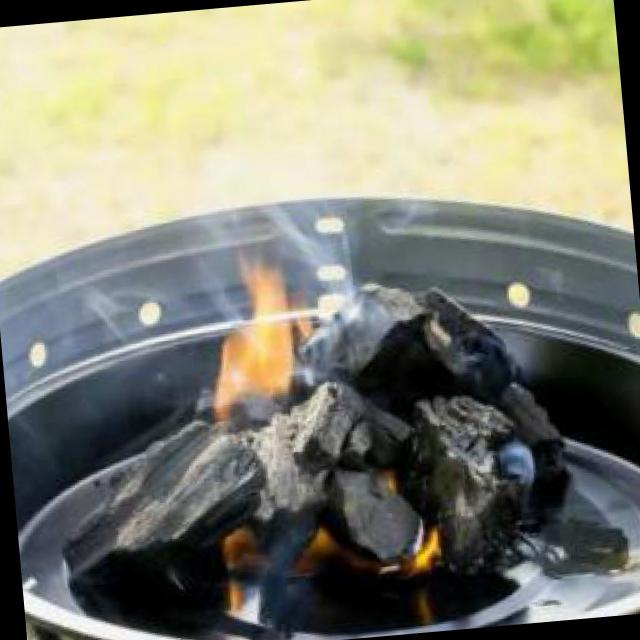fire: (196, 255, 318, 454)
smoke: (185, 90, 452, 310), (43, 250, 181, 380)
